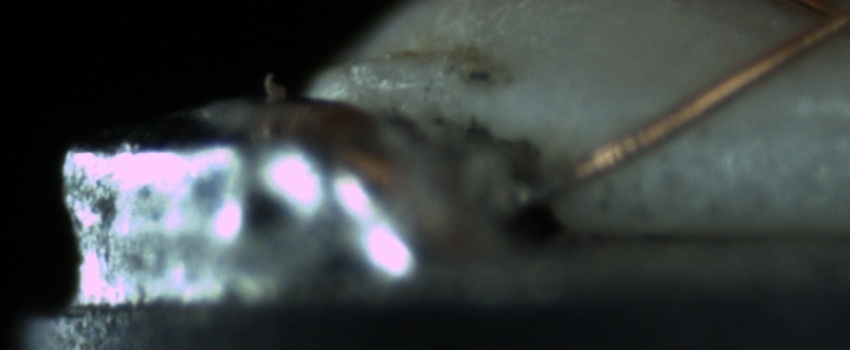CL: (779, 1, 849, 47)
DL: (688, 82, 849, 148)
TS: (518, 173, 569, 206)
